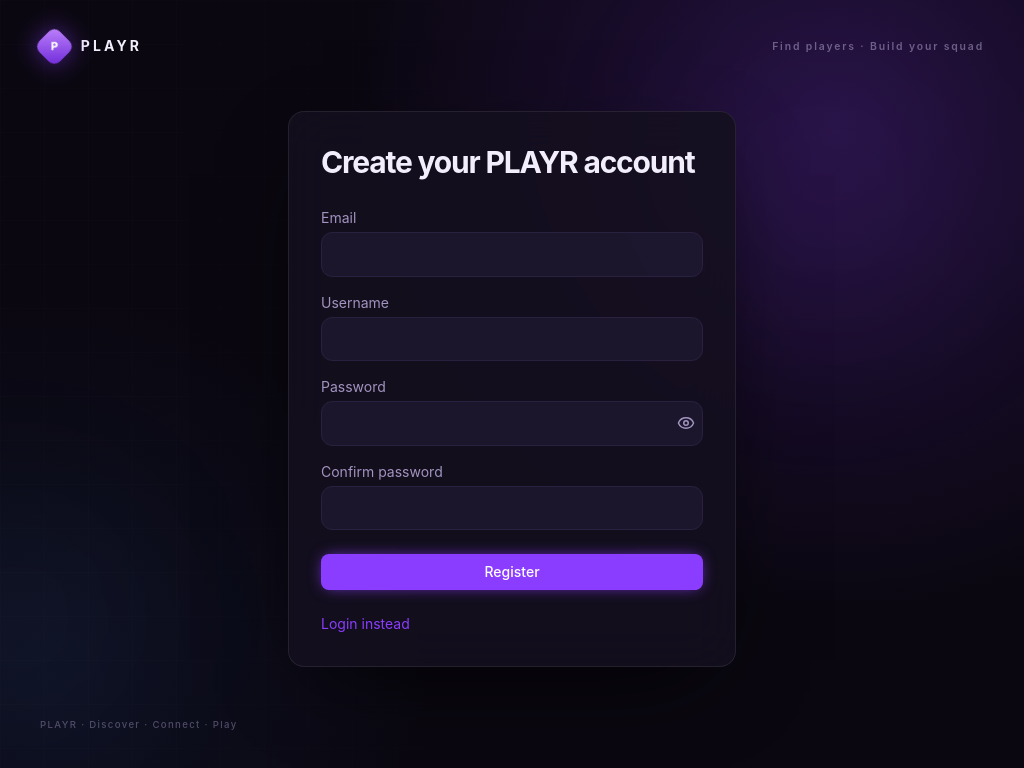
RegisterPage › shows the strength meter once the user starts typing a password
Expected: the text "password strength" is not shown
Type "abc" into the password field labelled "Password" at point(512, 423), box [321, 401, 703, 446]
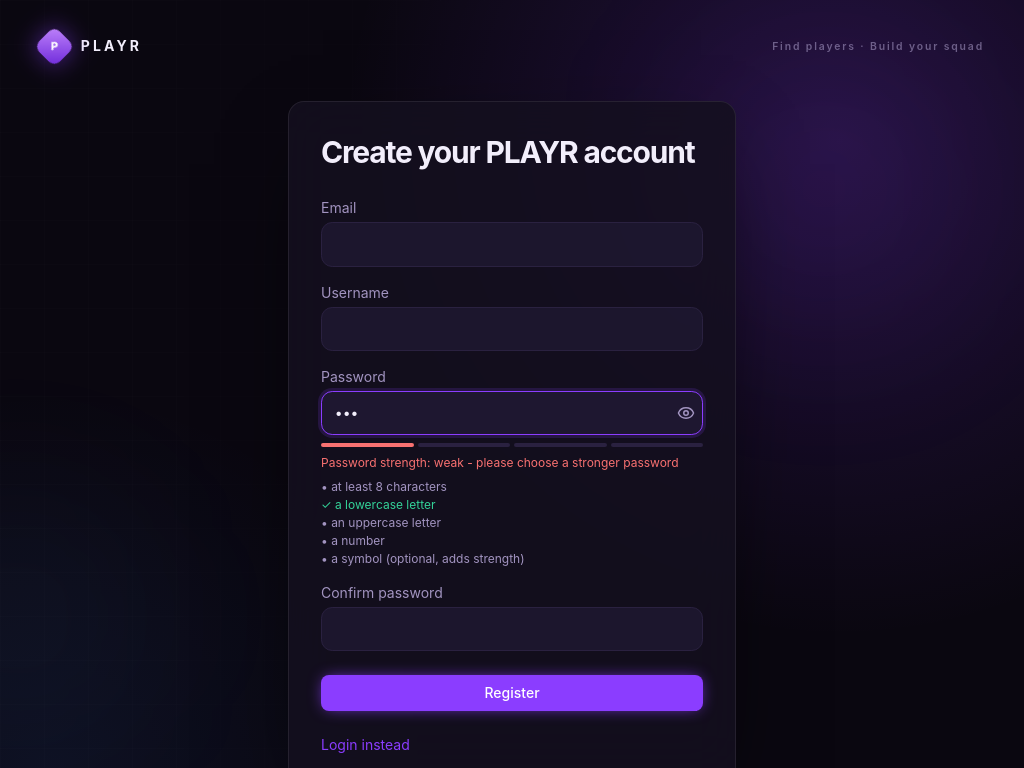
Expected: the text "Password strength: weak - please choose a stronger password" is shown, [321, 455, 703, 471]
